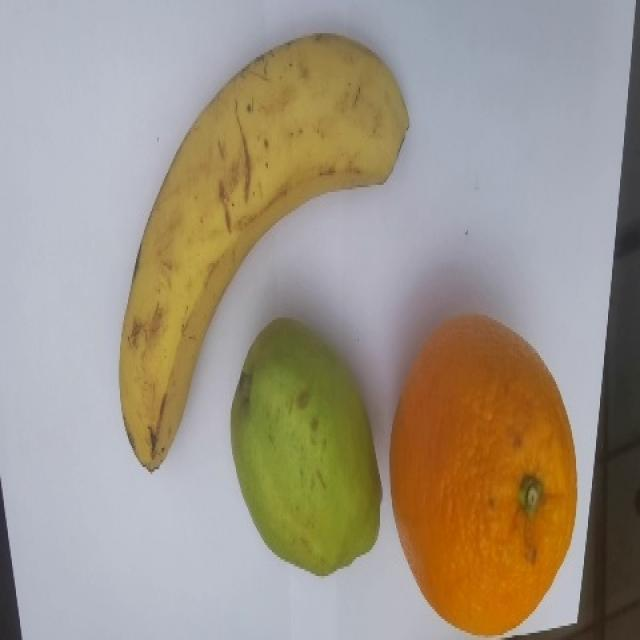Banana: (118, 31, 409, 472)
Orange: (388, 312, 578, 636)
